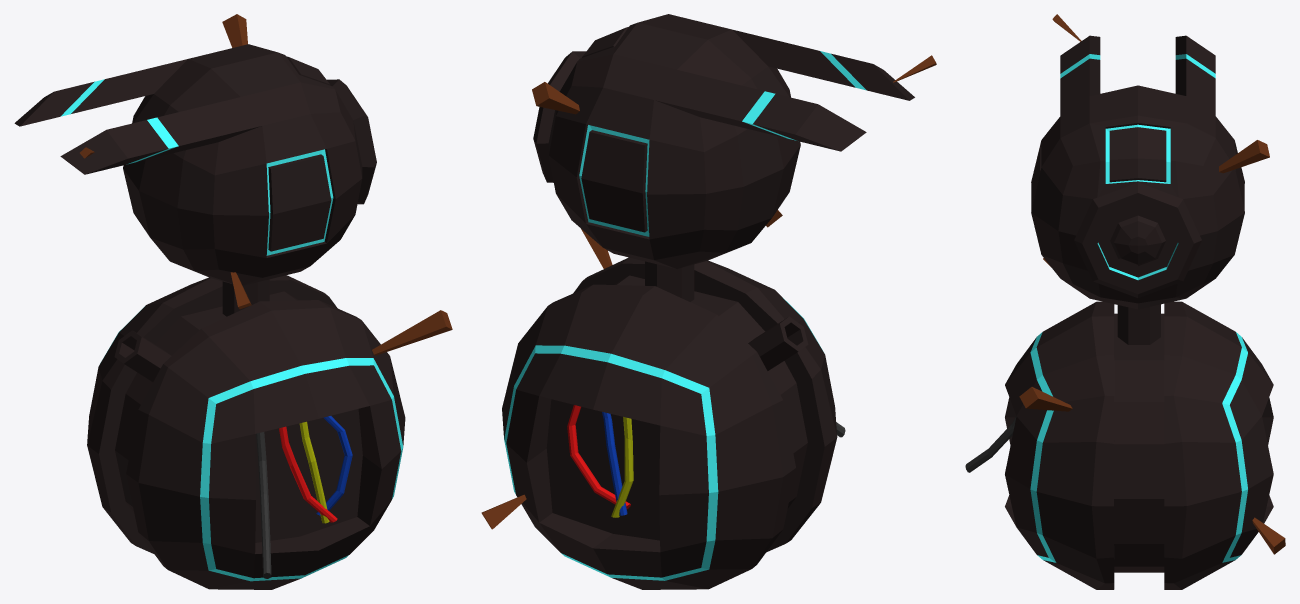
The model's file is Character.fbx.
The picture shows the model from 3 angles, left to right: view 1: azimuth 30°, elevation 25°; view 2: azimuth 150°, elevation 25°; view 3: azimuth 270°, elevation 25°; orthographic projection. The views are drawn at different scales.
Parts seen in each view (by area): view 1: Character_2_Wheels, Character_2_Head, Character_2_Body; view 2: Character_2_Wheels, Character_2_Head, Character_2_Body; view 3: Character_2_Wheels, Character_2_Head, Character_2_Body.
Part boxes in pixels (x1,y1,x2,y2): Character_2_Wheels: [87, 275, 452, 589]; Character_2_Head: [14, 14, 376, 316]; Character_2_Body: [114, 291, 298, 512]; Character_2_Wheels: [481, 229, 845, 589]; Character_2_Head: [532, 14, 936, 301]; Character_2_Body: [614, 275, 808, 508]; Character_2_Wheels: [965, 301, 1285, 589]; Character_2_Head: [1031, 14, 1269, 344]; Character_2_Body: [1114, 313, 1164, 572].
Bounding box in the file's own units: 2.53 × 3.48 × 2.13.
